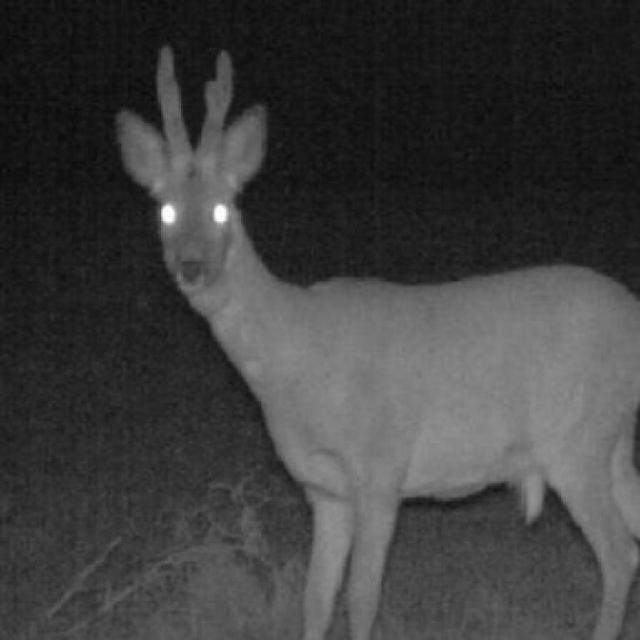Deer: (124, 32, 638, 638)
